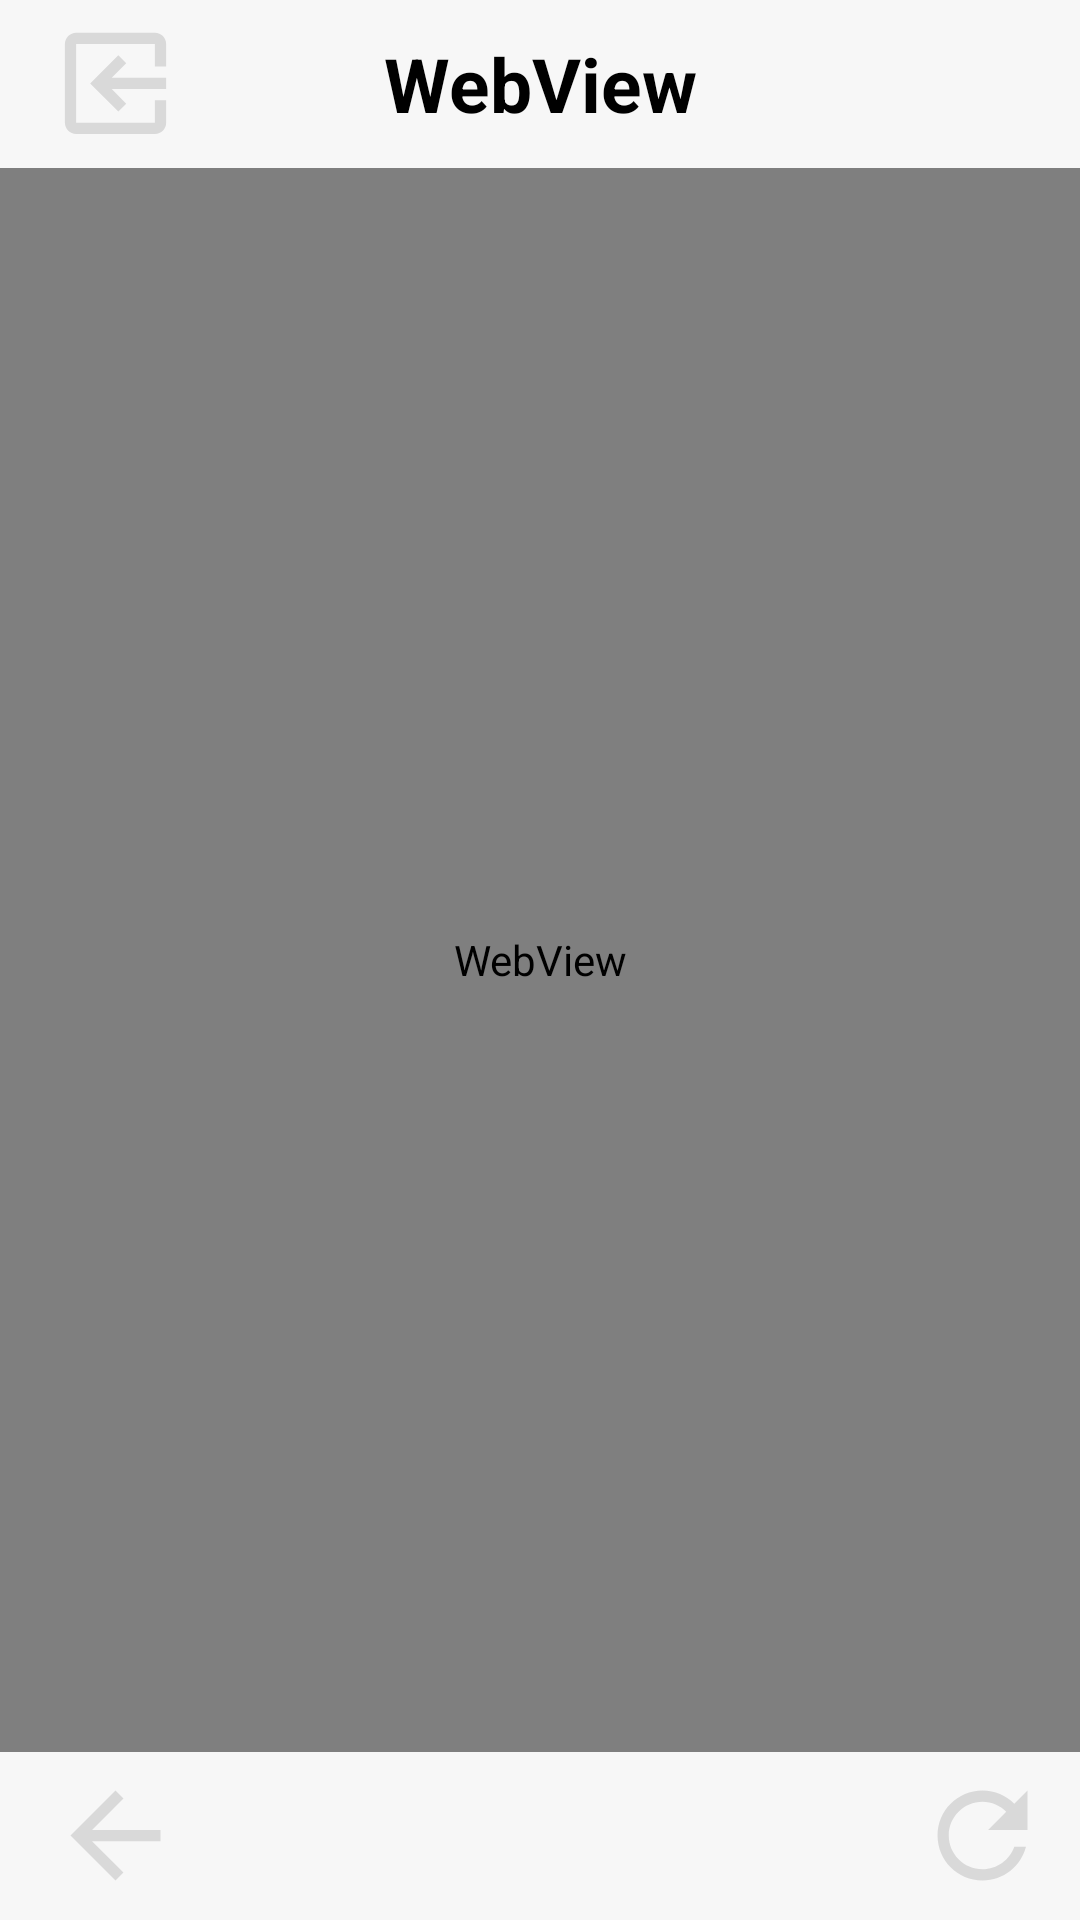

Where icons sit on this 1080x1920 app screen, as (x1=x1, y1=y1, x2=x2, y2=y2):
back: (x1=71, y1=1791, x2=160, y2=1880)
refresh: (x1=938, y1=1791, x2=1027, y2=1880)
